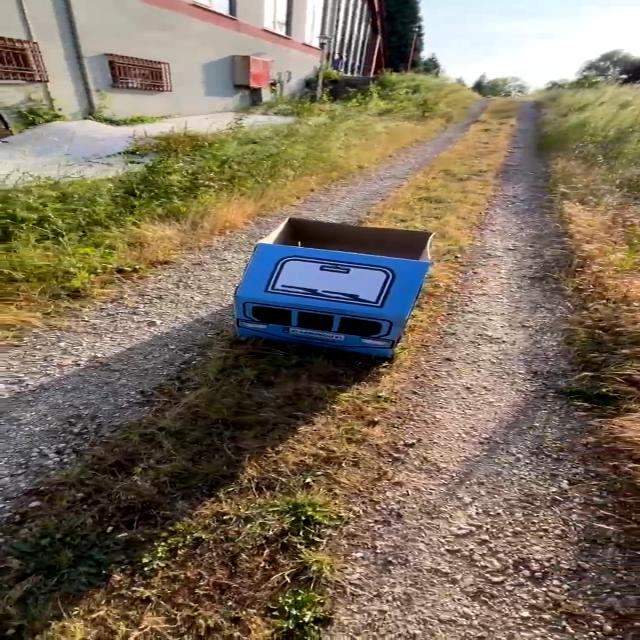blue_car: (197, 191, 468, 395)
